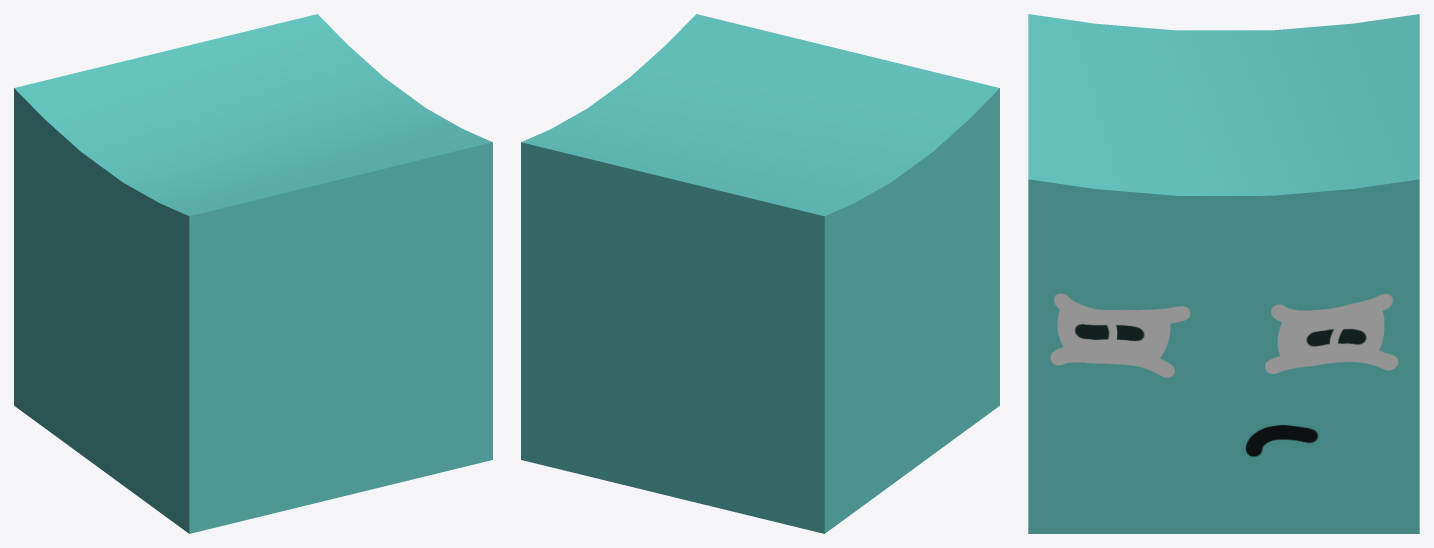
The model's file is sad.fbx.
The picture shows the model from 3 angles, left to right: view 1: azimuth 30°, elevation 25°; view 2: azimuth 150°, elevation 25°; view 3: azimuth 270°, elevation 25°; orthographic projection. The views are drawn at different scales.
Parts seen in each view (by area): view 1: Cube.001; view 2: Cube.001; view 3: Cube.001.
Part boxes in pixels (x1,y1,x2,y2): Cube.001: (14,14,492,533); Cube.001: (521,14,999,533); Cube.001: (1028,14,1419,533).
Size of the model in its own units: 200 by 200 by 200.
